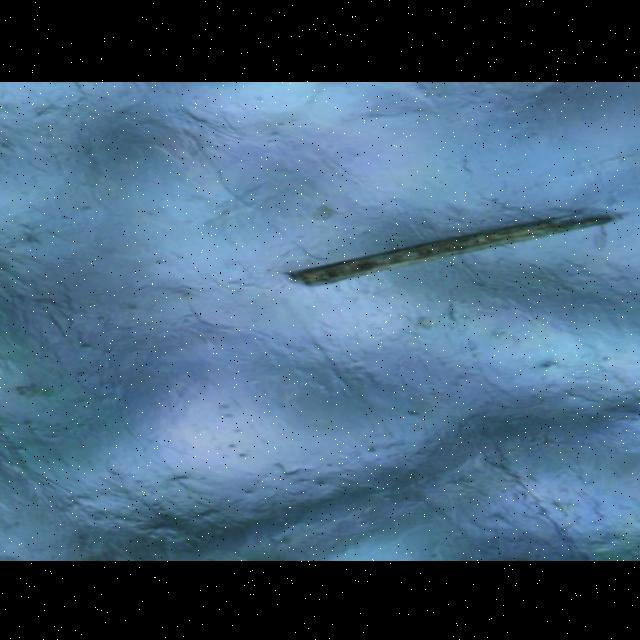Fibre: (281, 206, 619, 284)
